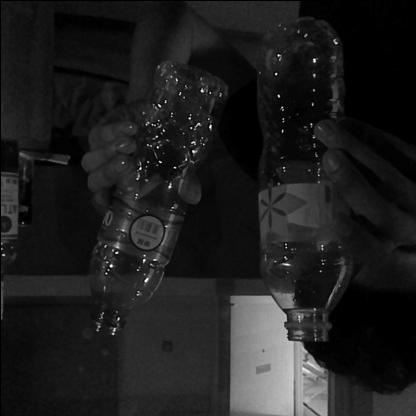plastic_bottles: (86, 61, 226, 342), (248, 18, 340, 344)
